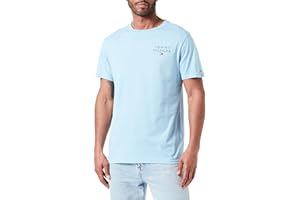design: (151, 43, 173, 56)
